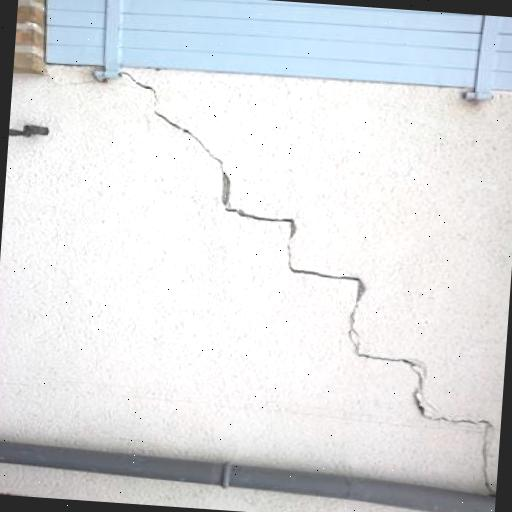spalling: (145, 102, 493, 488)
